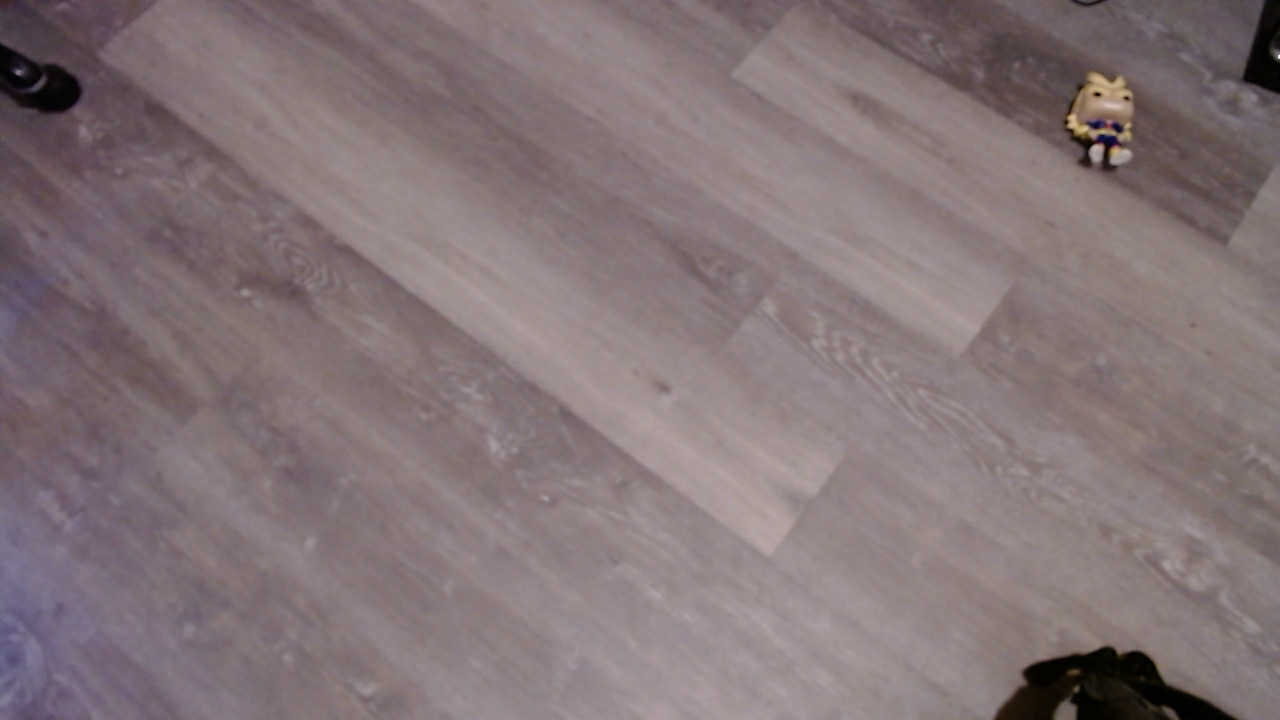all_might: (1069, 74, 1147, 181)
